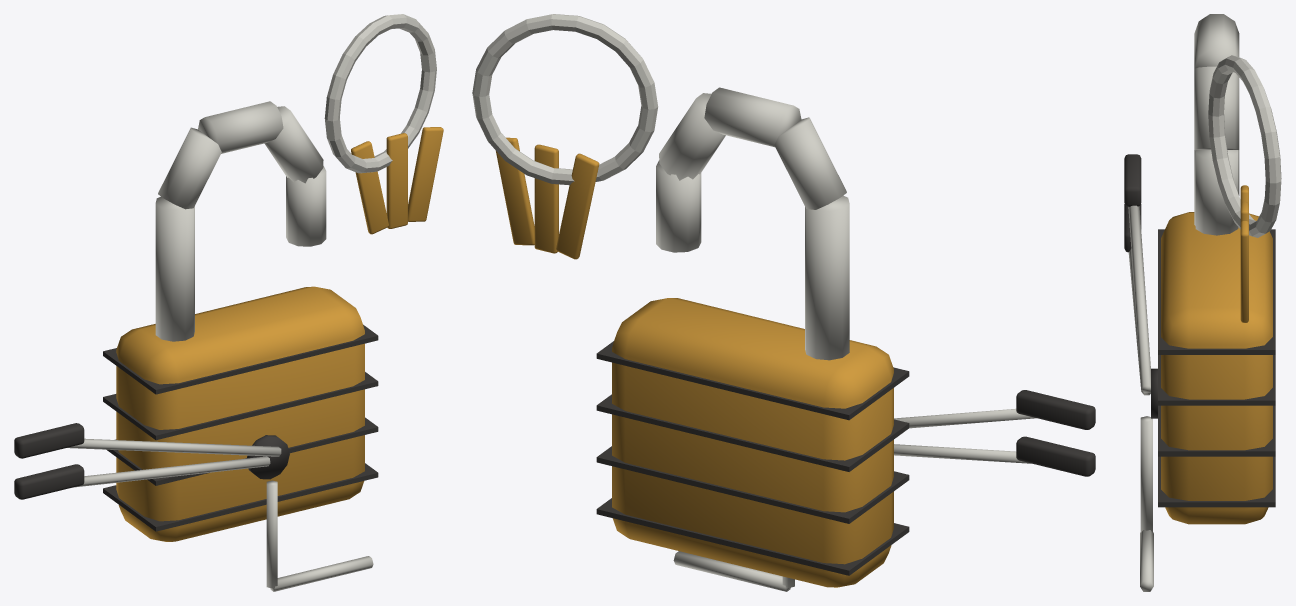
Rendered from picks.glb.
3 renders of one model, left to right at view 1: azimuth 30°, elevation 25°; view 2: azimuth 150°, elevation 25°; view 3: azimuth 270°, elevation 25°, orthographic. The views are drawn at different scales.
Parts seen in each view (by area): view 1: body, ring, shackle, shackle.002, shackle.001, shackle.004, shackle.003, pick.001, lam.003, lam.002, key.002, pick (+9 smaller); view 2: body, ring, shackle, shackle.002, shackle.001, shackle.004, shackle.003, lam.003, lam.001, lam.002, lam, key (+7 smaller); view 3: body, ring, shackle.004, shackle.003, pick.001, shackle.002, lam.003, wrench, lam, lam.001, lam.002, grip.001 (+6 smaller).
Part boxes in pixels (box(x1,y1,x2,y2)): body: box(116, 286, 364, 541); ring: box(324, 14, 436, 173); shackle: box(155, 196, 194, 341); shackle.002: box(198, 101, 283, 153); shackle.001: box(158, 127, 221, 209); shackle.004: box(286, 166, 326, 246); shackle.003: box(264, 106, 323, 183); pick.001: box(67, 438, 281, 456); lam.003: box(103, 324, 378, 394); lam.002: box(103, 372, 378, 440); key.002: box(408, 127, 443, 221); pick: box(73, 456, 270, 487); body: box(612, 298, 893, 587); ring: box(472, 14, 658, 185); shackle: box(805, 195, 849, 360); shackle.002: box(704, 87, 801, 147); shackle.001: box(774, 117, 846, 209); shackle.004: box(656, 160, 701, 252); shackle.003: box(659, 93, 725, 180); lam.003: box(596, 341, 909, 420); lam.001: box(596, 446, 909, 523); lam.002: box(596, 394, 909, 471); lam: box(596, 498, 909, 575); key: box(556, 153, 599, 259); body: box(1161, 212, 1272, 524); ring: box(1208, 55, 1281, 237); shackle.004: box(1195, 150, 1238, 235); shackle.003: box(1194, 66, 1239, 150); pick.001: box(1128, 205, 1150, 393); shackle.002: box(1194, 14, 1239, 68); lam.003: box(1158, 229, 1275, 354); wrench: box(1140, 416, 1152, 532); lam: box(1158, 456, 1275, 507); lam.001: box(1158, 405, 1275, 456); lam.002: box(1158, 355, 1275, 405); grip.001: box(1124, 154, 1141, 206).
Bounding box in the file's own units: 0.442 × 0.4397 × 0.1122.
